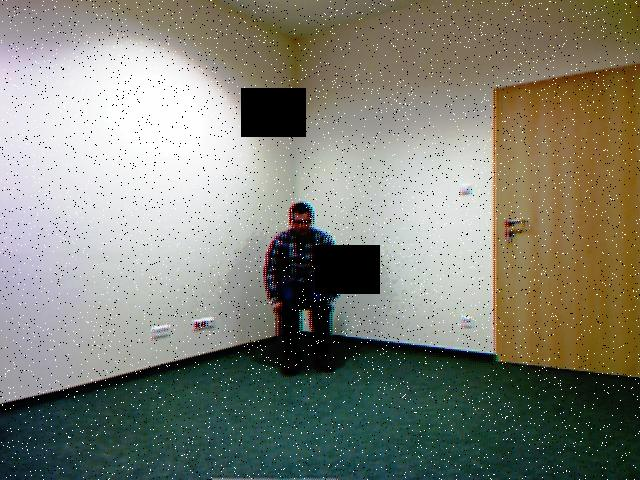sitting: (263, 190, 348, 380)
